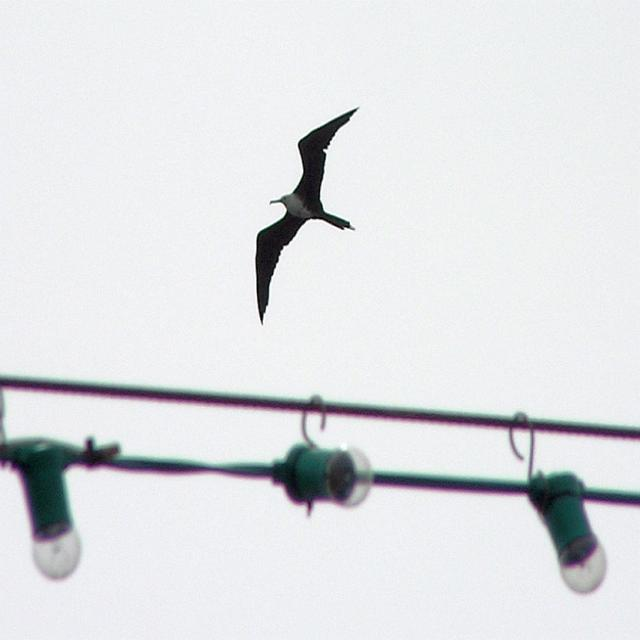bird: (241, 102, 370, 320)
